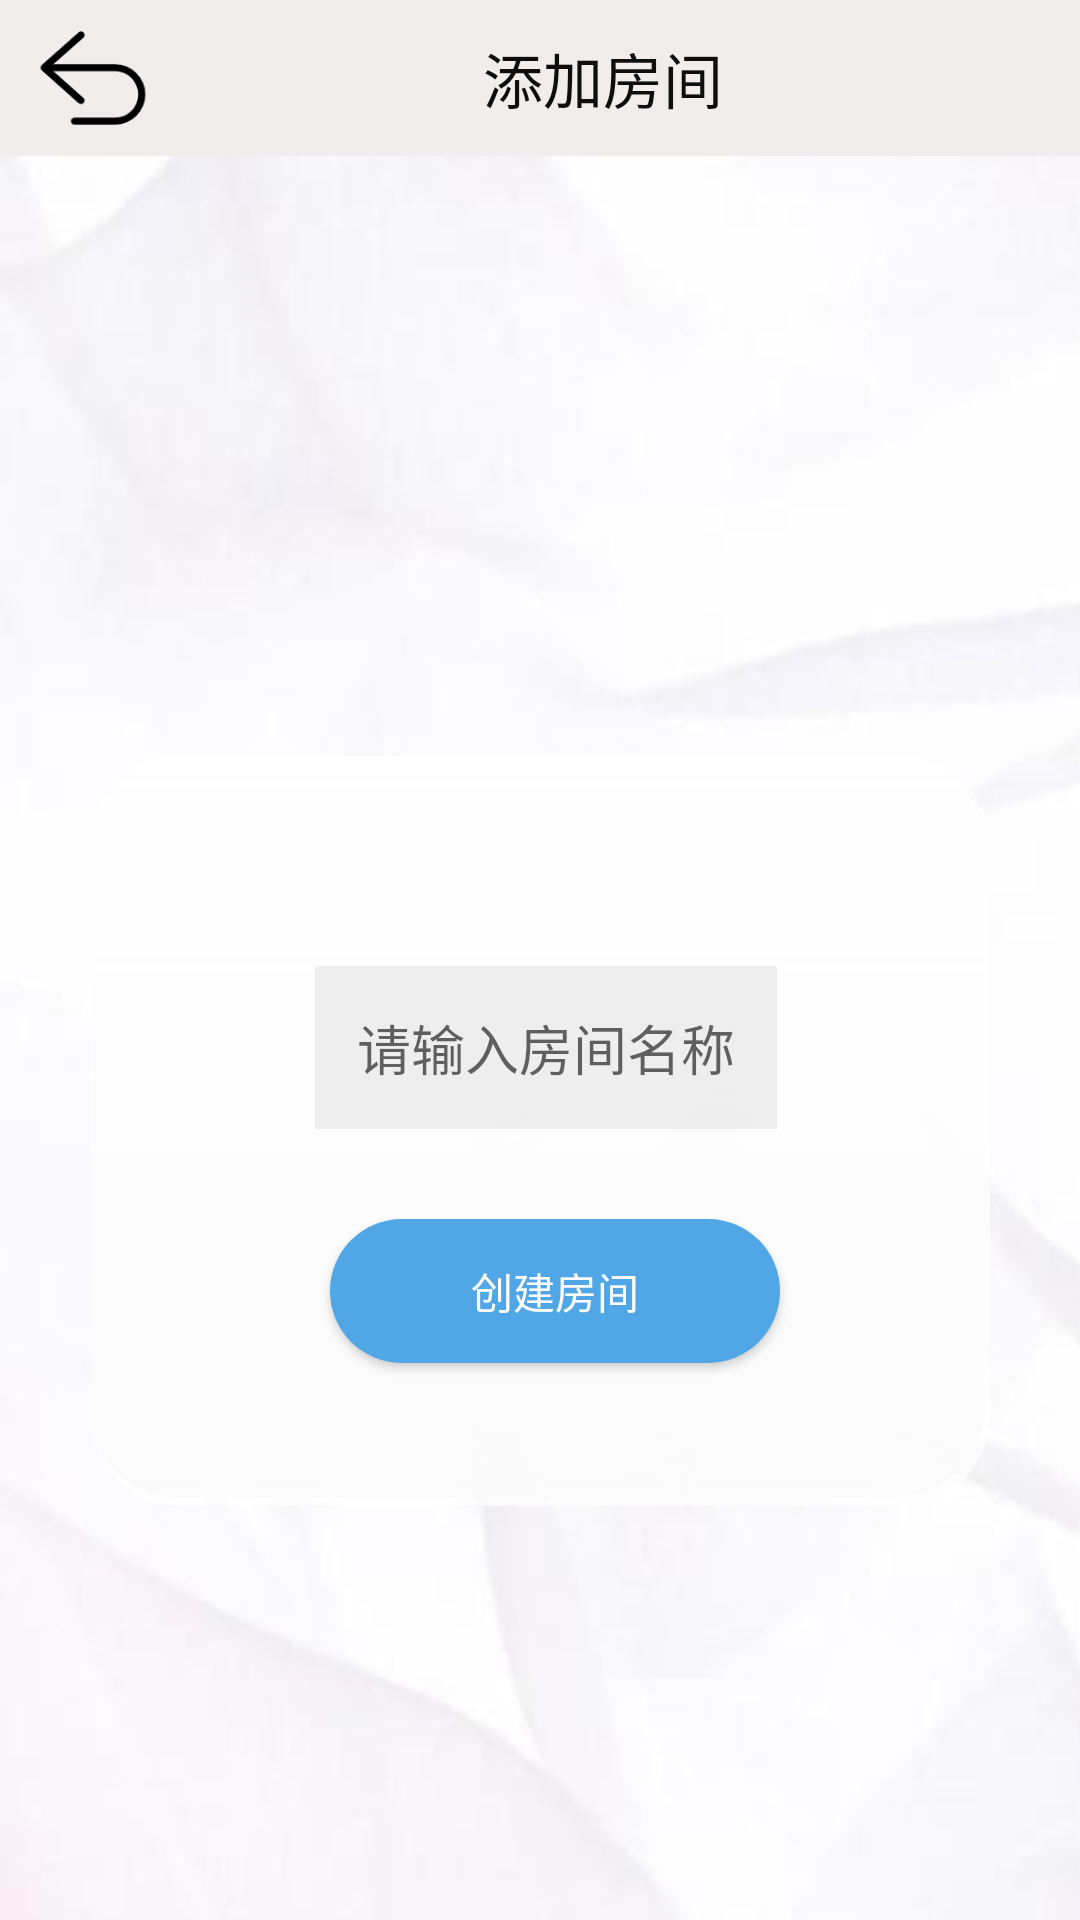

Point at icon controls on the screen. Image size 1080 × 1920, points as (x=x, y=y).
back: (x=93, y=78)
